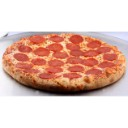pepperonipizza: (5, 34, 126, 91)
